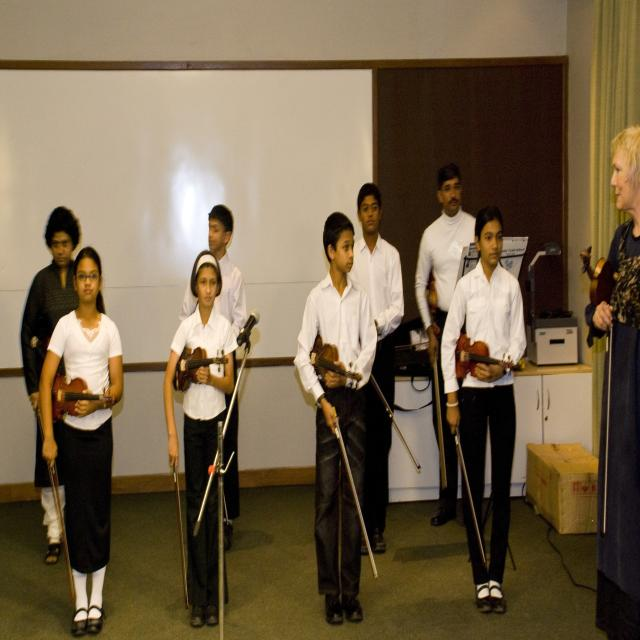violin: (39, 372, 116, 420), (452, 334, 526, 380), (306, 332, 365, 386), (172, 338, 228, 393), (425, 273, 439, 315)
